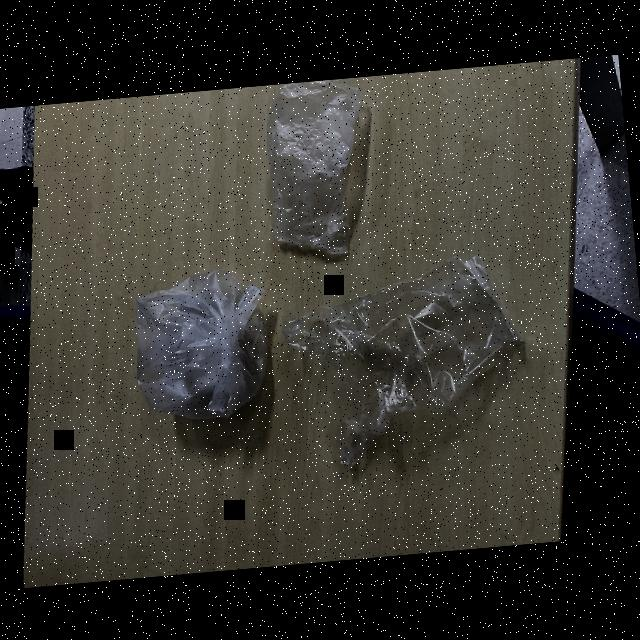plastic_bag: (274, 245, 534, 468), (119, 266, 283, 428), (256, 75, 382, 268)
